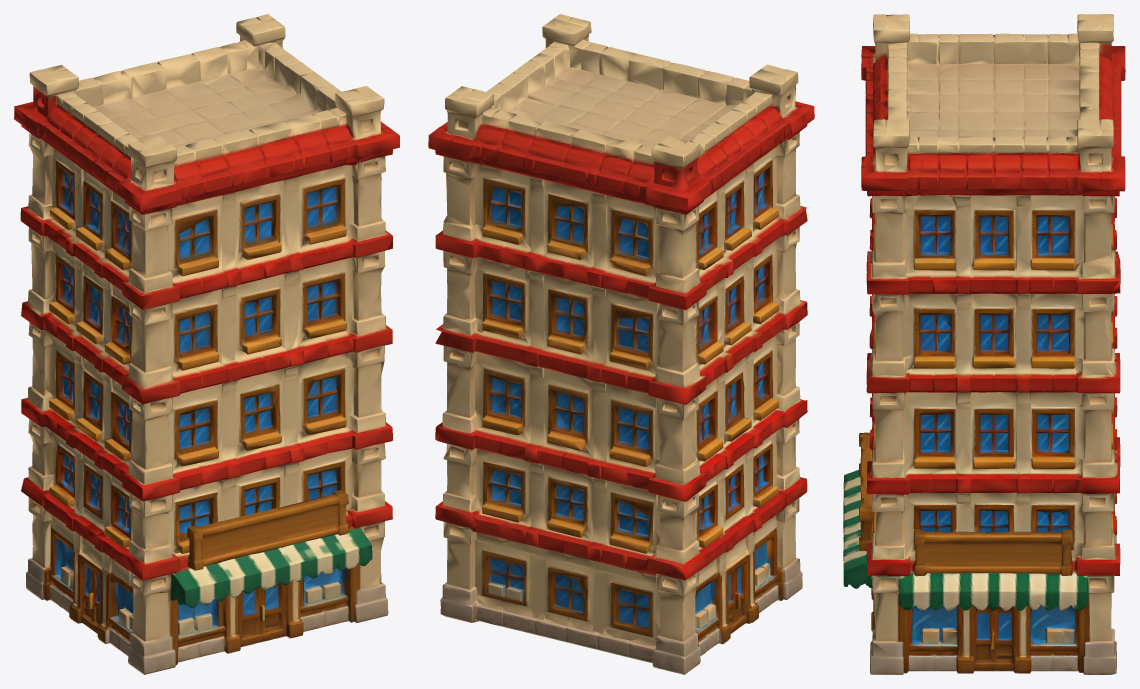
The model's file is shop-5-web.glb.
3 renders of one model, left to right at view 1: azimuth 30°, elevation 25°; view 2: azimuth 150°, elevation 25°; view 3: azimuth 270°, elevation 25°, orthographic. The views are drawn at different scales.
Visible parts, largest first — view 1: tripo_node_0e4e161a-4f3e-40a9-9f4f-664119120ae3; view 2: tripo_node_0e4e161a-4f3e-40a9-9f4f-664119120ae3; view 3: tripo_node_0e4e161a-4f3e-40a9-9f4f-664119120ae3.
Part boxes in pixels (bbox=[...]): tripo_node_0e4e161a-4f3e-40a9-9f4f-664119120ae3: bbox=[14, 14, 399, 674]; tripo_node_0e4e161a-4f3e-40a9-9f4f-664119120ae3: bbox=[428, 14, 814, 674]; tripo_node_0e4e161a-4f3e-40a9-9f4f-664119120ae3: bbox=[843, 14, 1125, 674].
Size of the model in its own units: 10.64 by 20 by 9.49.
1 material, 1 textured.
